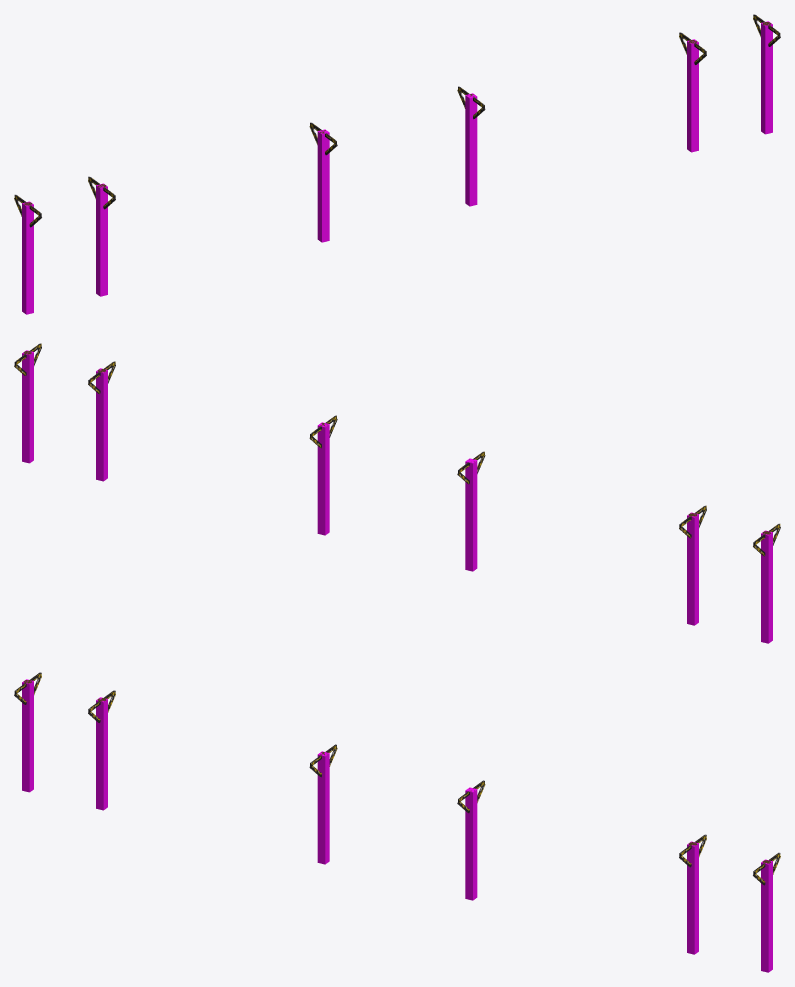
File: tiang_dalam.glb
3 views of the same model, one above another, from view 1: azimuth 30°, elevation 25°; view 2: azimuth 150°, elevation 25°; view 3: azimuth 330°, elevation 25° (orthographic).
Visible parts, largest first — view 1: col_tiang_dalam_03, col_tiang_dalam_04, col_tiang_dalam_02, col_tiang_dalam_01, col_tiang_dalam_05, col_tiang_dalam_06; view 2: col_tiang_dalam_03, col_tiang_dalam_04, col_tiang_dalam_01, col_tiang_dalam_06, col_tiang_dalam_02, col_tiang_dalam_05; view 3: col_tiang_dalam_04, col_tiang_dalam_03, col_tiang_dalam_06, col_tiang_dalam_01, col_tiang_dalam_02, col_tiang_dalam_05.
Part boxes in pixels (<box>): col_tiang_dalam_03: <box>317,129,329,242</box>; col_tiang_dalam_04: <box>465,93,477,206</box>; col_tiang_dalam_02: <box>96,183,107,296</box>; col_tiang_dalam_01: <box>22,201,33,314</box>; col_tiang_dalam_05: <box>687,39,698,152</box>; col_tiang_dalam_06: <box>761,21,772,134</box>; col_tiang_dalam_03: <box>465,458,477,571</box>; col_tiang_dalam_04: <box>317,422,329,535</box>; col_tiang_dalam_01: <box>761,530,772,643</box>; col_tiang_dalam_06: <box>22,350,33,463</box>; col_tiang_dalam_02: <box>687,512,698,625</box>; col_tiang_dalam_05: <box>96,368,107,481</box>; col_tiang_dalam_04: <box>465,787,477,900</box>; col_tiang_dalam_03: <box>317,751,329,864</box>; col_tiang_dalam_06: <box>761,859,772,972</box>; col_tiang_dalam_01: <box>22,679,33,792</box>; col_tiang_dalam_02: <box>96,697,107,810</box>; col_tiang_dalam_05: <box>687,841,698,954</box>.
Bounding box in the file's own units: 25.26 × 3.5 × 1.57.
Materials: 3 (2 with a texture image).
